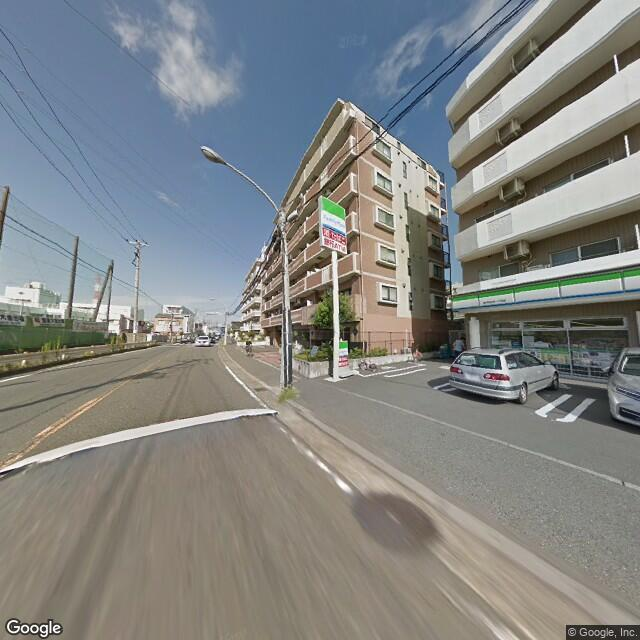family_mart: (452, 263, 639, 317), (319, 195, 347, 238)
